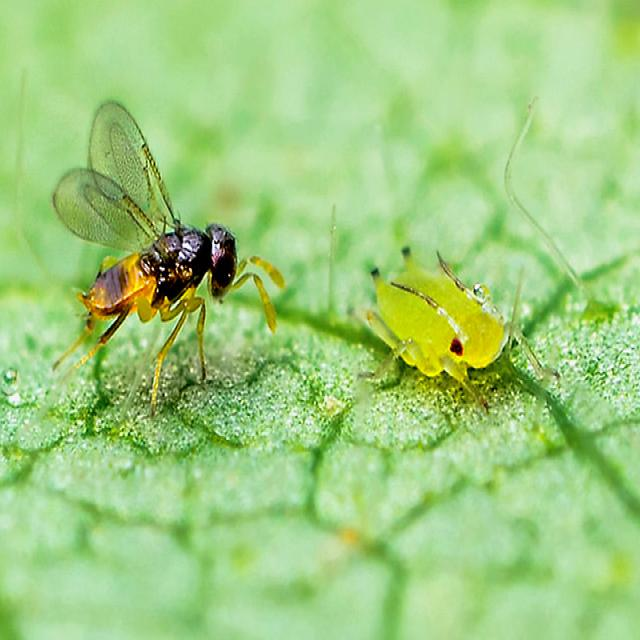Aphid-Grown-: (345, 219, 540, 414)
Aphid-Grown-have wings-: (30, 85, 289, 421)
